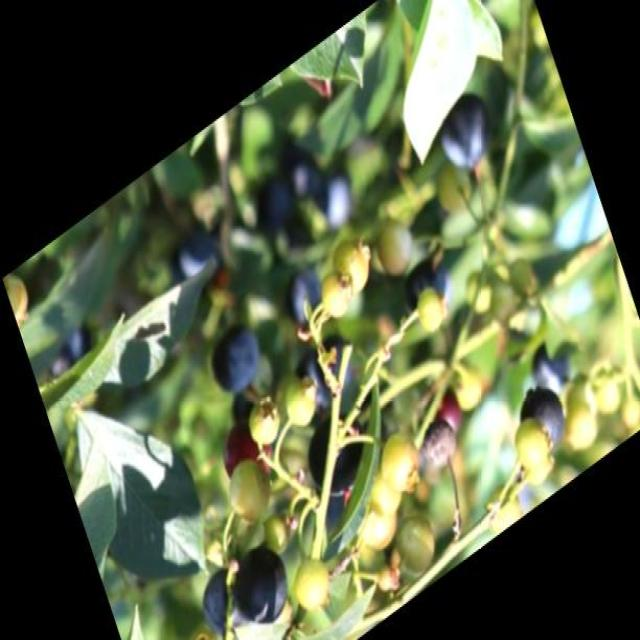blueberry: (296, 398, 377, 514), (223, 532, 301, 638), (432, 85, 499, 179), (200, 308, 266, 402), (394, 245, 459, 337), (509, 367, 571, 461), (296, 331, 362, 419), (164, 224, 223, 301), (273, 255, 328, 332), (194, 560, 247, 638)
blueberry-halfripe: (212, 403, 276, 494), (427, 384, 464, 442)
blueberry-unripe: (368, 417, 427, 505), (219, 446, 276, 534), (280, 543, 334, 626), (363, 207, 416, 286), (390, 505, 437, 576), (328, 229, 374, 301), (348, 491, 396, 560), (507, 408, 554, 478), (277, 367, 323, 435), (312, 260, 356, 326), (244, 388, 286, 453), (179, 615, 226, 638)
